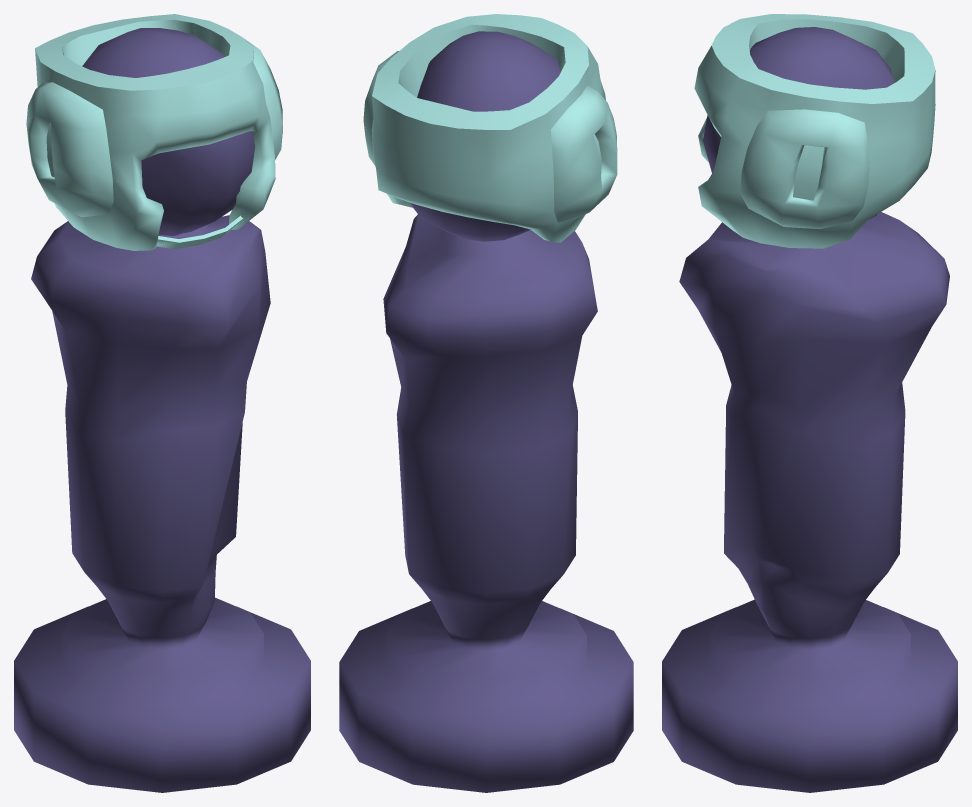
File: Bot_Boxer.fbx
3 views of the same model, side by side, from view 1: azimuth 30°, elevation 25°; view 2: azimuth 150°, elevation 25°; view 3: azimuth 270°, elevation 25° (orthographic).
Parts seen in each view (by area): view 1: Bot_Boxer; view 2: Bot_Boxer; view 3: Bot_Boxer.
Boxes of the visible parts, x1,y1,x2,y2 form: Bot_Boxer: (14,14,310,792); Bot_Boxer: (339,14,633,792); Bot_Boxer: (662,14,957,792).
Size of the model in its own units: 200 by 518 by 200.
